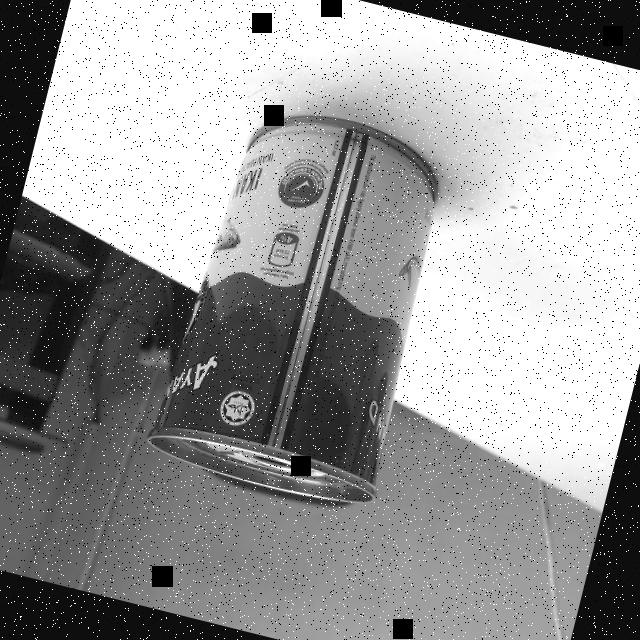can: (140, 90, 463, 516)
